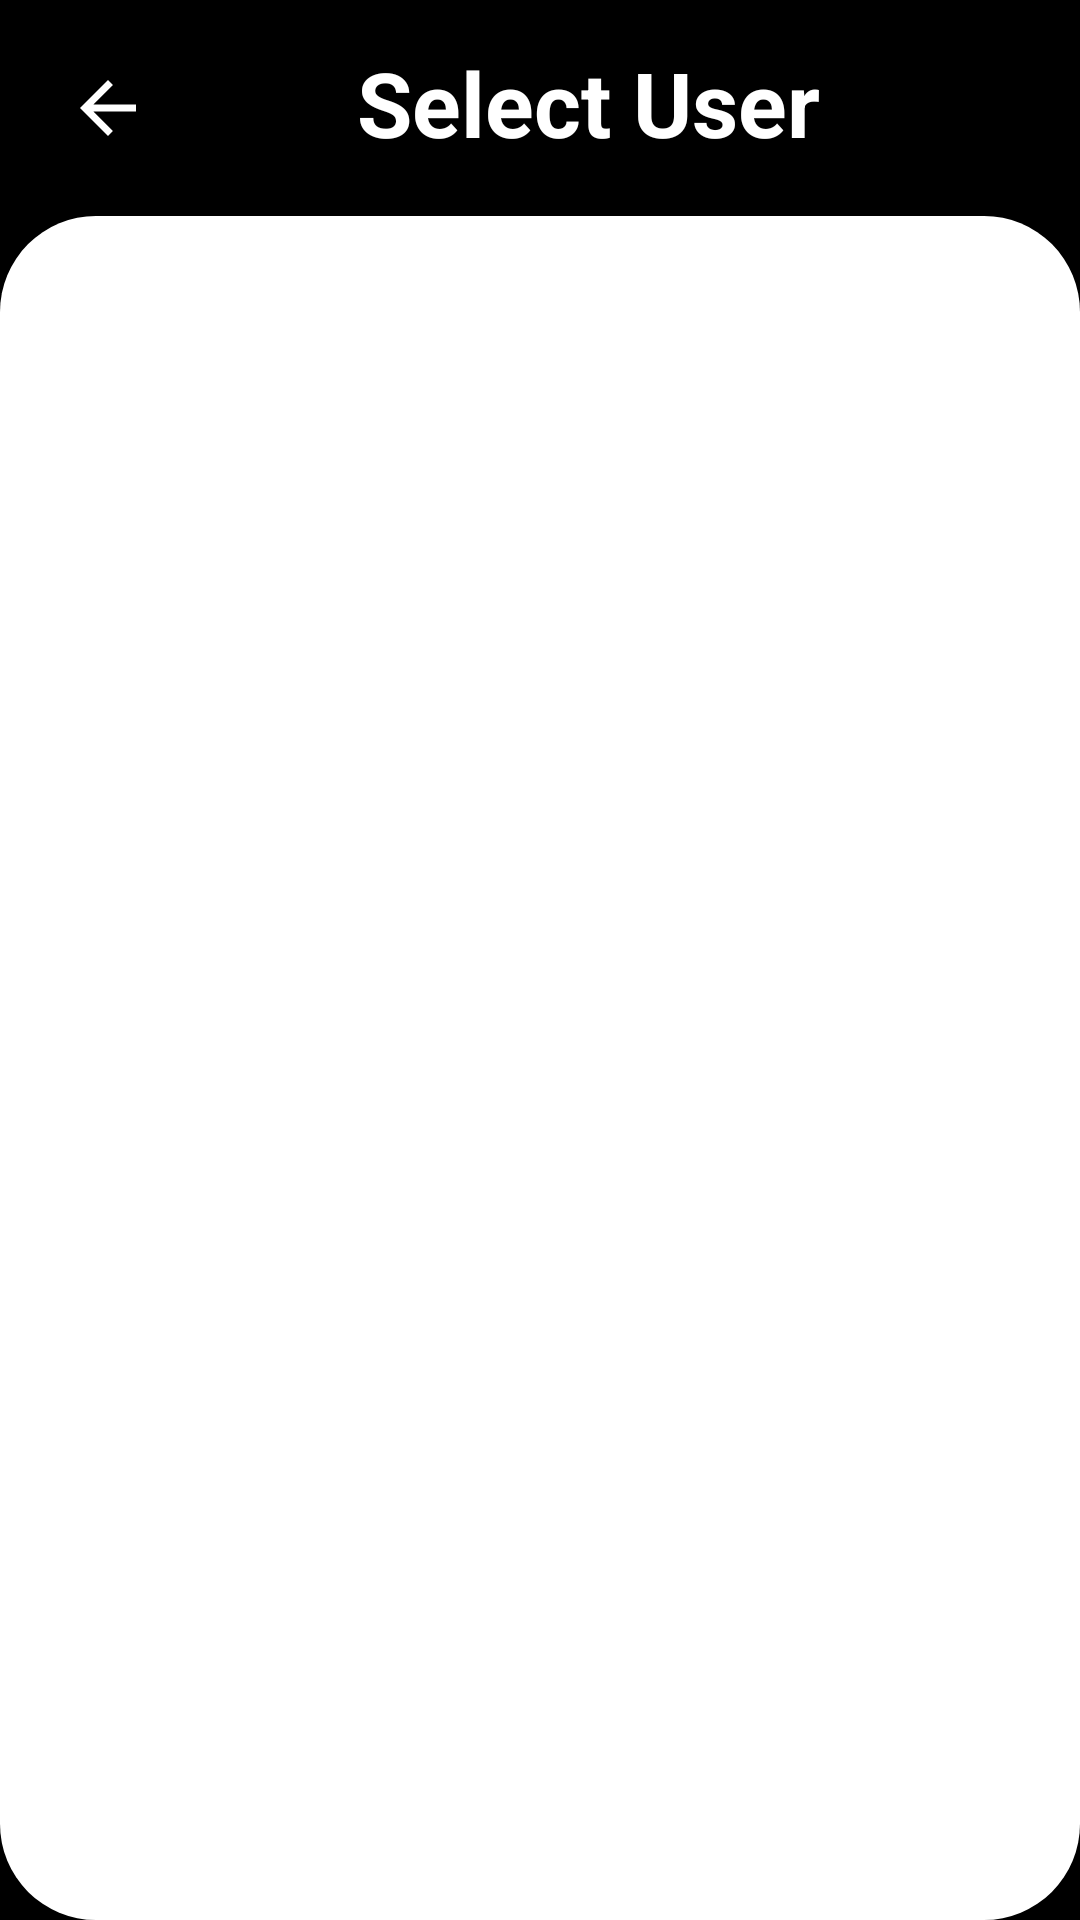

Where icons sit on this 1080*1920 app screen, as (x1, y1, x2, y2):
arrow back: (80, 80, 136, 136)
